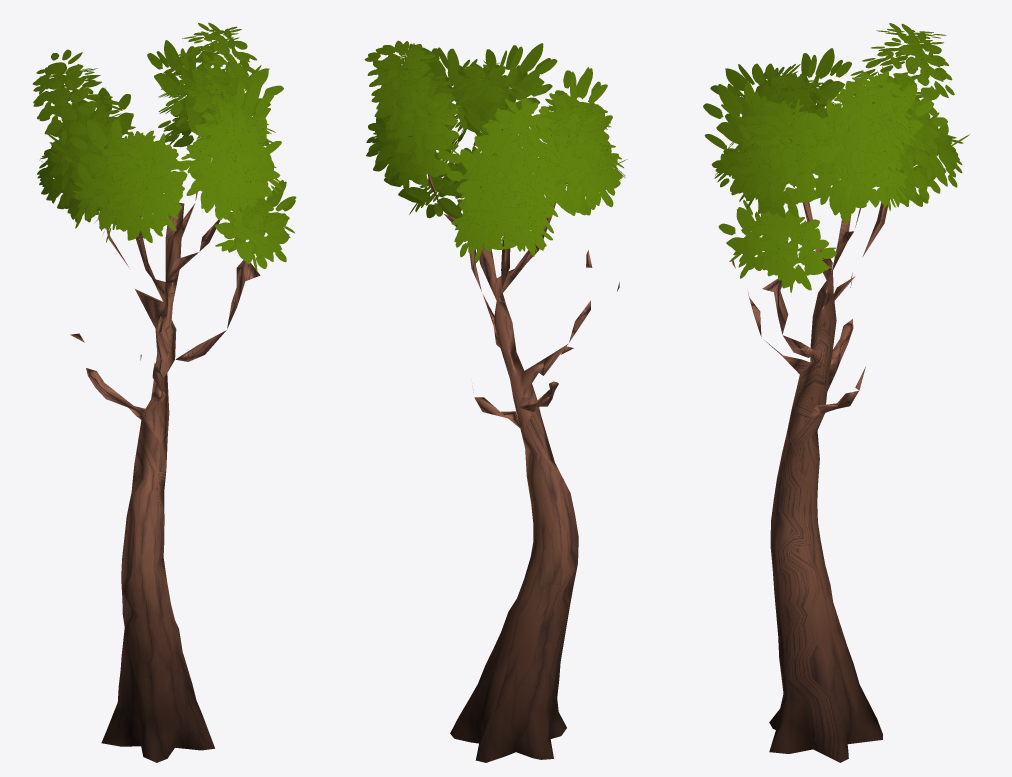
Rendered from CommonTree_4_far.gltf.
The picture shows the model from 3 angles, left to right: view 1: azimuth 30°, elevation 25°; view 2: azimuth 150°, elevation 25°; view 3: azimuth 270°, elevation 25°; orthographic projection. The views are drawn at different scales.
Visible parts, largest first — view 1: CommonTree_4; view 2: CommonTree_4; view 3: CommonTree_4.
Boxes of the visible parts, bbox=[...] form: CommonTree_4: bbox=[32, 22, 296, 762]; CommonTree_4: bbox=[364, 40, 627, 762]; CommonTree_4: bbox=[703, 23, 969, 762].
Bounding box in the file's own units: 3.76 × 9.14 × 3.73.
Materials: 2 (2 with a texture image).
